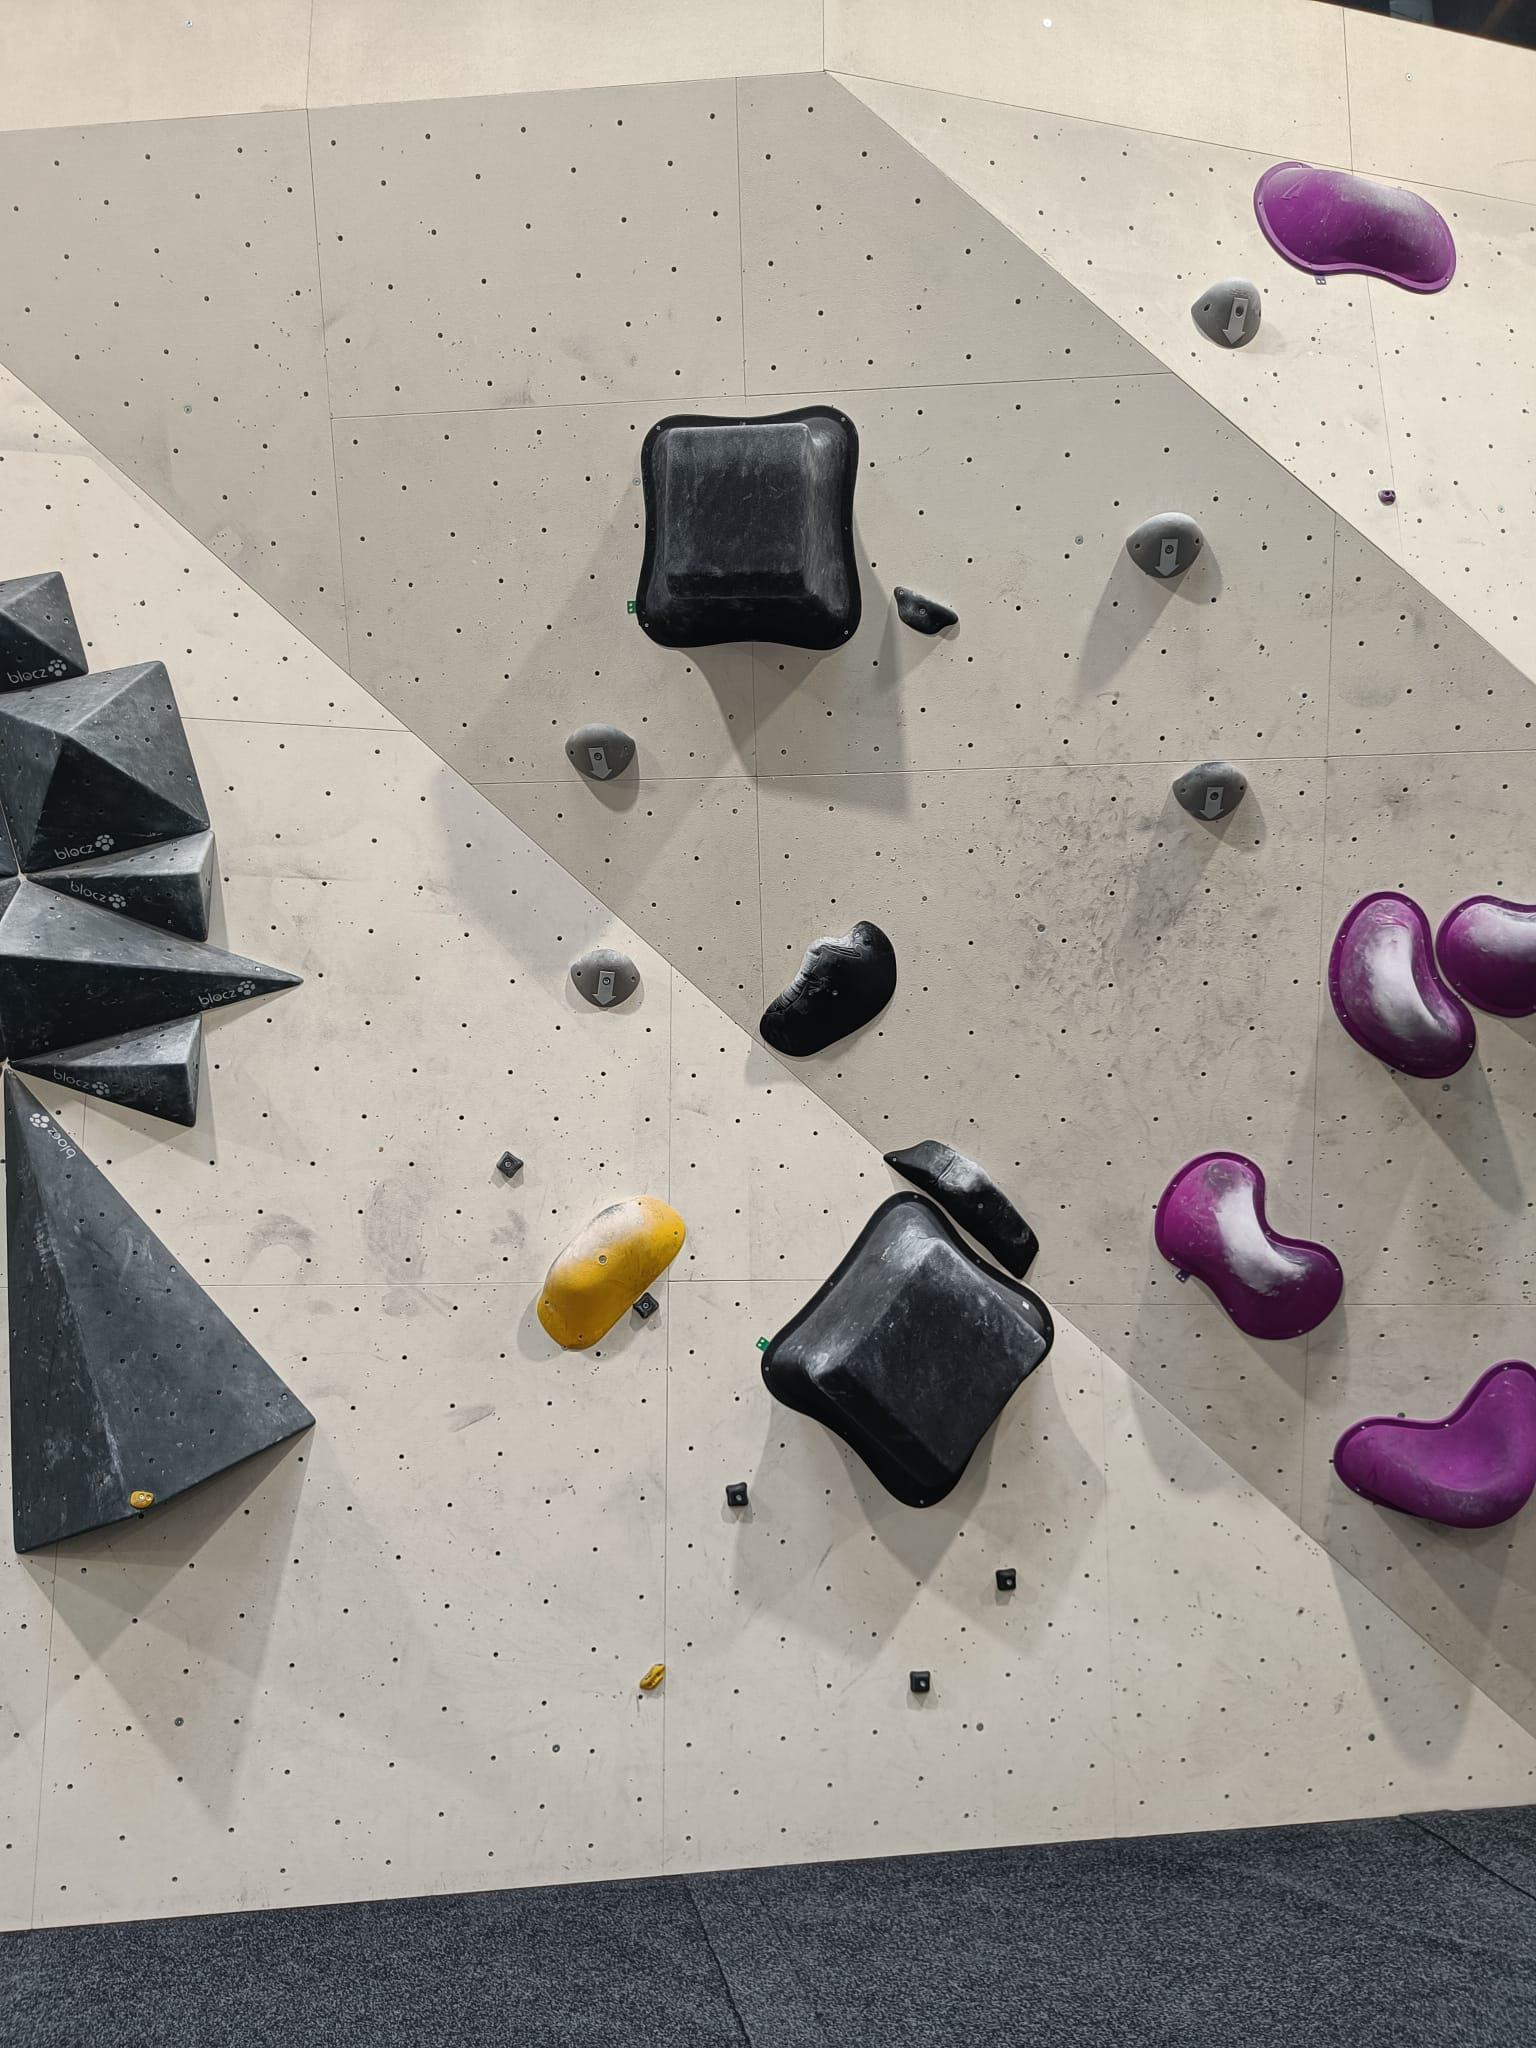hold: (760, 1190, 1054, 1509), (636, 405, 860, 650), (1155, 1151, 1342, 1340), (1333, 1358, 1536, 1529), (1328, 890, 1476, 1079), (1254, 160, 1457, 295), (536, 1198, 684, 1350), (883, 1138, 1039, 1279), (758, 919, 897, 1058), (1436, 893, 1536, 1018), (1126, 511, 1205, 579), (1191, 277, 1262, 348), (1173, 761, 1249, 821), (570, 948, 641, 1008), (565, 724, 636, 782), (892, 587, 958, 635), (497, 1151, 523, 1179), (632, 1292, 658, 1319), (639, 1664, 665, 1690), (724, 1482, 749, 1506), (995, 1567, 1016, 1592), (910, 1671, 931, 1693), (129, 1490, 155, 1508), (1376, 490, 1396, 503)
volume: (5, 1068, 315, 1555), (0, 661, 211, 872), (6, 1013, 203, 1127), (24, 830, 215, 942), (0, 572, 89, 693), (0, 801, 19, 880), (0, 876, 21, 926)
